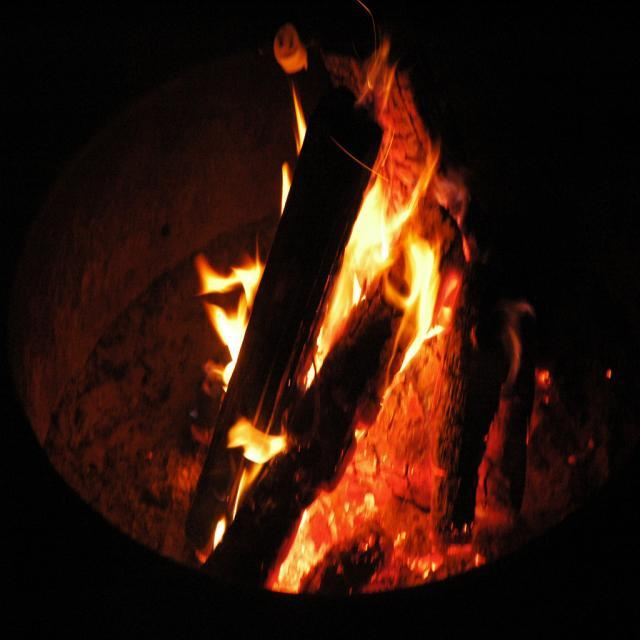Fire: (353, 191, 399, 279), (412, 241, 436, 334), (220, 300, 254, 348), (236, 420, 276, 459)
